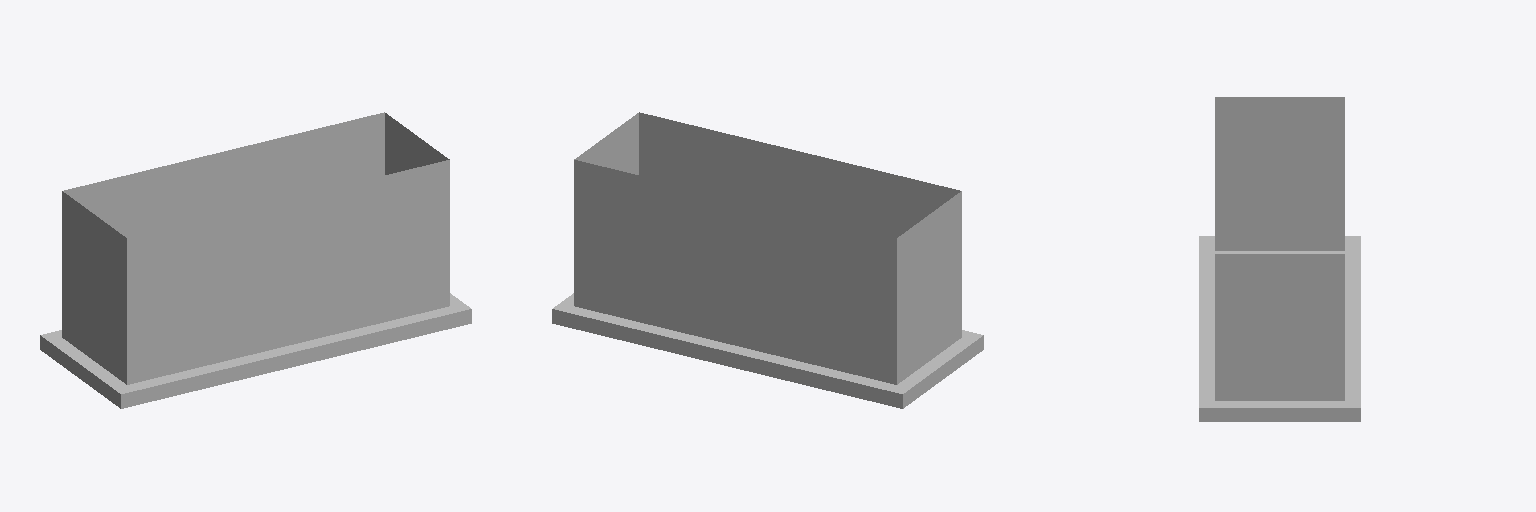
The model's file is FEP-S6P-Radiator.obj.
3 views of the same model, side by side, from view 1: azimuth 30°, elevation 25°; view 2: azimuth 150°, elevation 25°; view 3: azimuth 270°, elevation 25° (orthographic).
Visible parts, largest first — view 1: FEP-S6P-Radiator; view 2: FEP-S6P-Radiator; view 3: FEP-S6P-Radiator.
Boxes of the visible parts, x1=… form: FEP-S6P-Radiator: x1=40, y1=112, x2=471, y2=408; FEP-S6P-Radiator: x1=552, y1=112, x2=983, y2=408; FEP-S6P-Radiator: x1=1199, y1=97, x2=1360, y2=421.
Bounding box in the file's own units: 1.25 × 0.55 × 0.5.